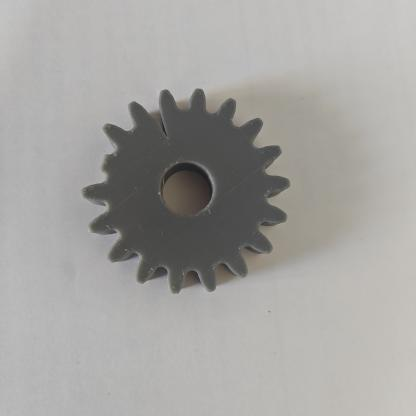defect: (114, 85, 200, 157), (56, 129, 127, 192)
gear: (50, 66, 318, 324)
